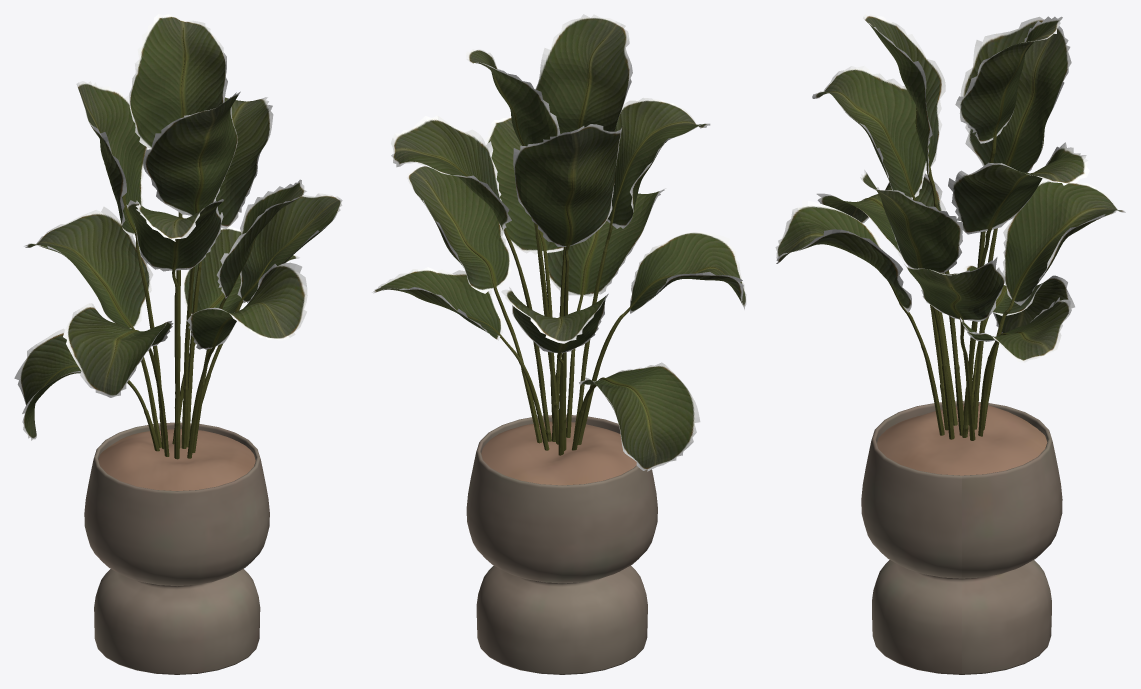
Rendered from bk_plant.obj.
3 views of the same model, side by side, from view 1: azimuth 30°, elevation 25°; view 2: azimuth 150°, elevation 25°; view 3: azimuth 270°, elevation 25° (orthographic). The views are drawn at different scales.
Bounding box in the file's own units: 0.5365 × 1 × 0.5011.
1 material, 1 textured.
